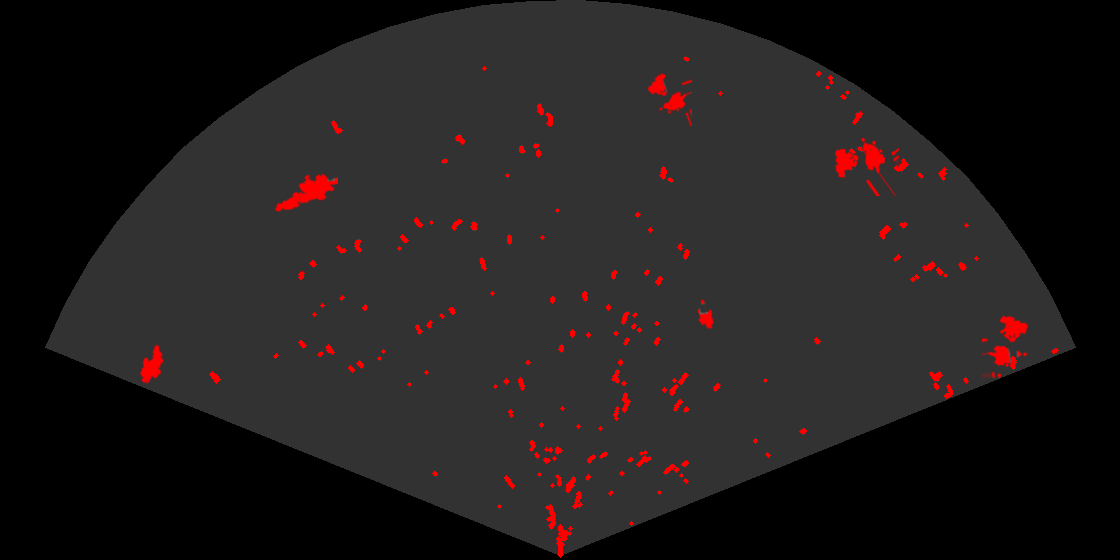AUV: (138, 343, 165, 385), (695, 297, 715, 330)
cage: (833, 136, 899, 196), (982, 314, 1030, 378), (646, 71, 692, 126)
frogman: (273, 172, 338, 214)
